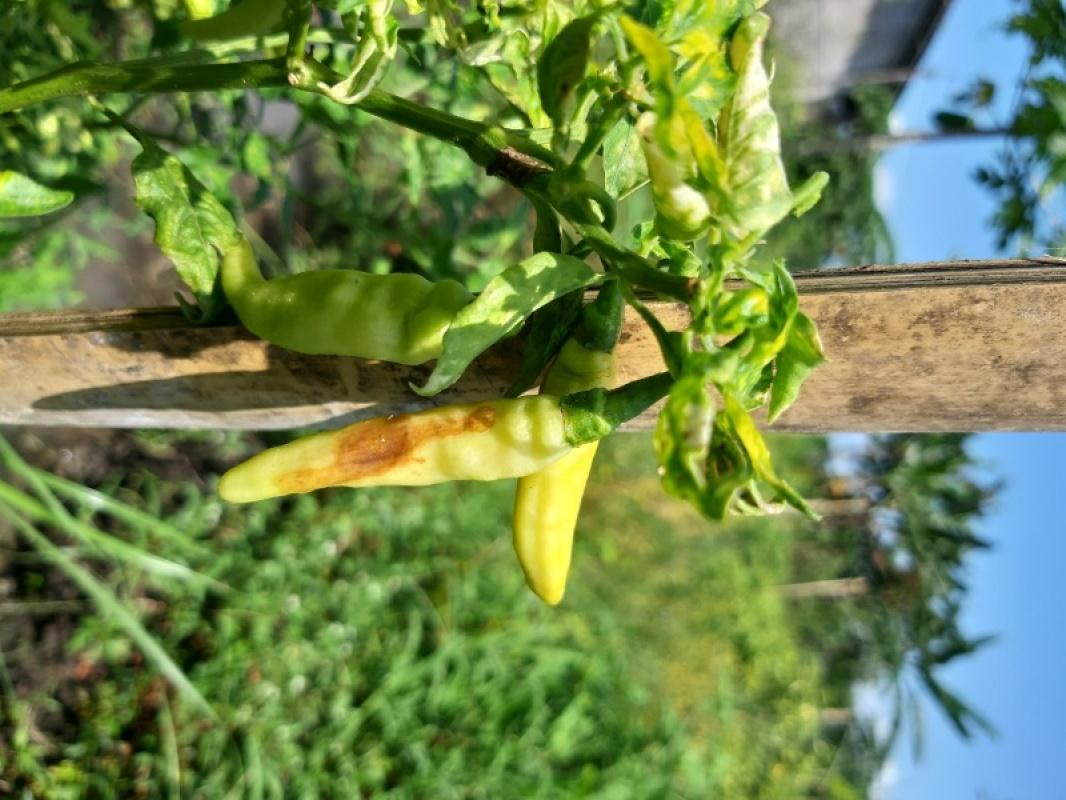antraknosa: (222, 392, 617, 509)
cabai_normal: (223, 233, 500, 363), (514, 394, 597, 605)
